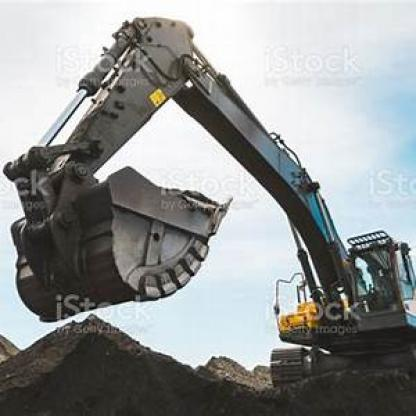excavator: (14, 14, 414, 392)
